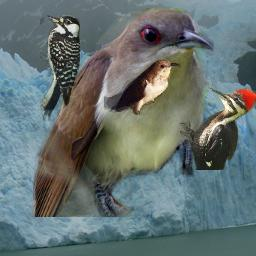Cuckoo: (33, 8, 214, 217), (104, 59, 181, 115)
Woodpecker: (180, 87, 256, 170), (40, 14, 80, 122)
